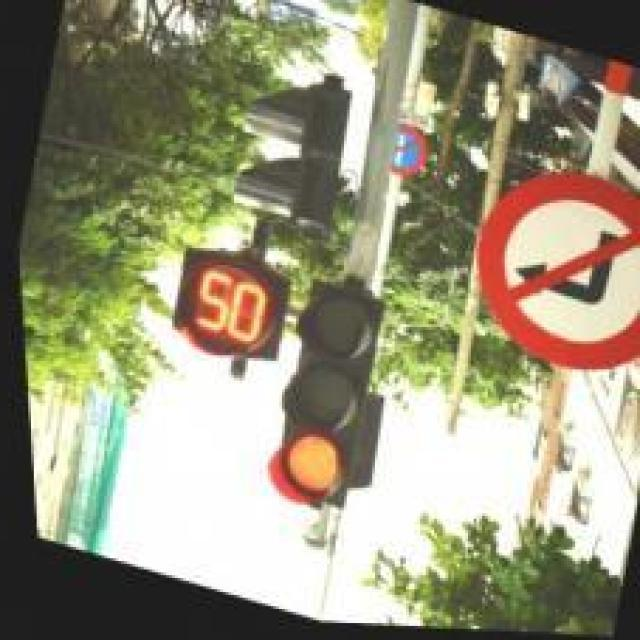red: (238, 275, 399, 526)
